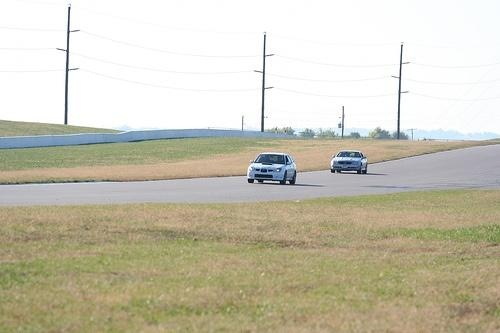car: (245, 150, 300, 188), (329, 149, 372, 178)
